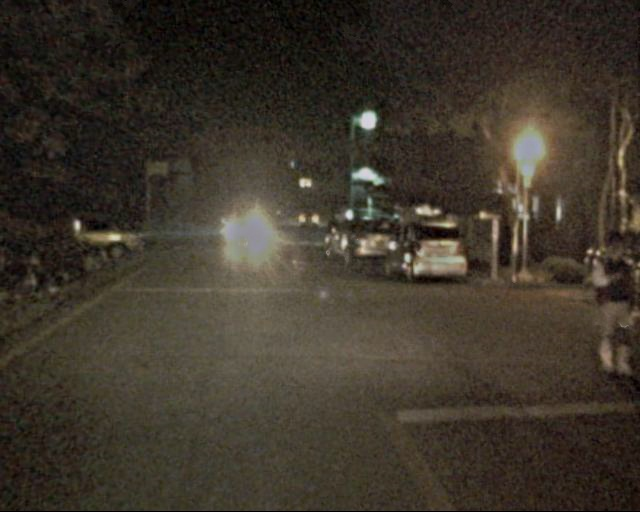person: (578, 232, 640, 383)
